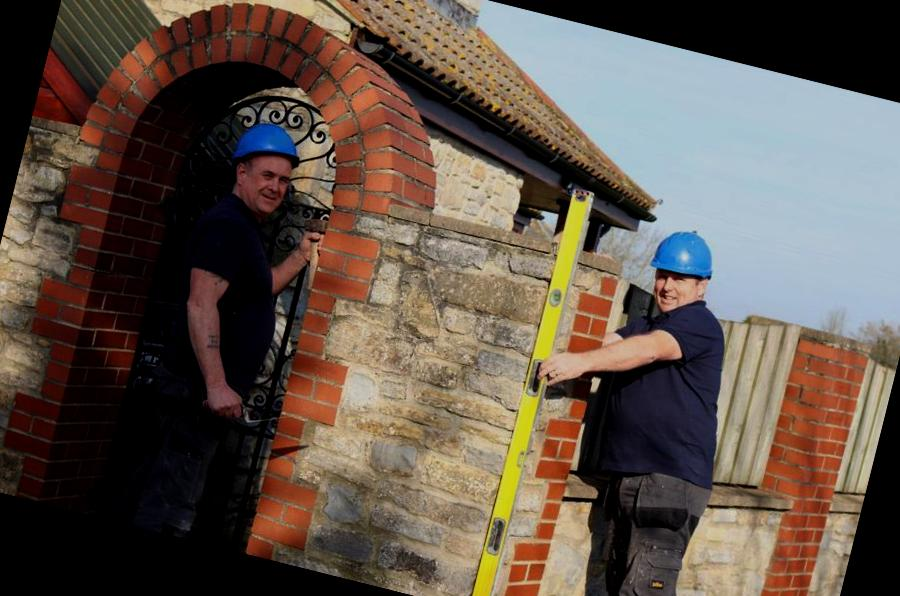helmet: (220, 111, 312, 185), (641, 222, 723, 298)
no_vest: (570, 288, 754, 518), (147, 186, 308, 426)
person: (112, 105, 330, 548), (528, 214, 776, 596)
